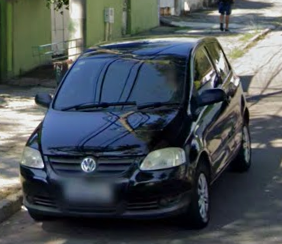car: (19, 36, 255, 231)
